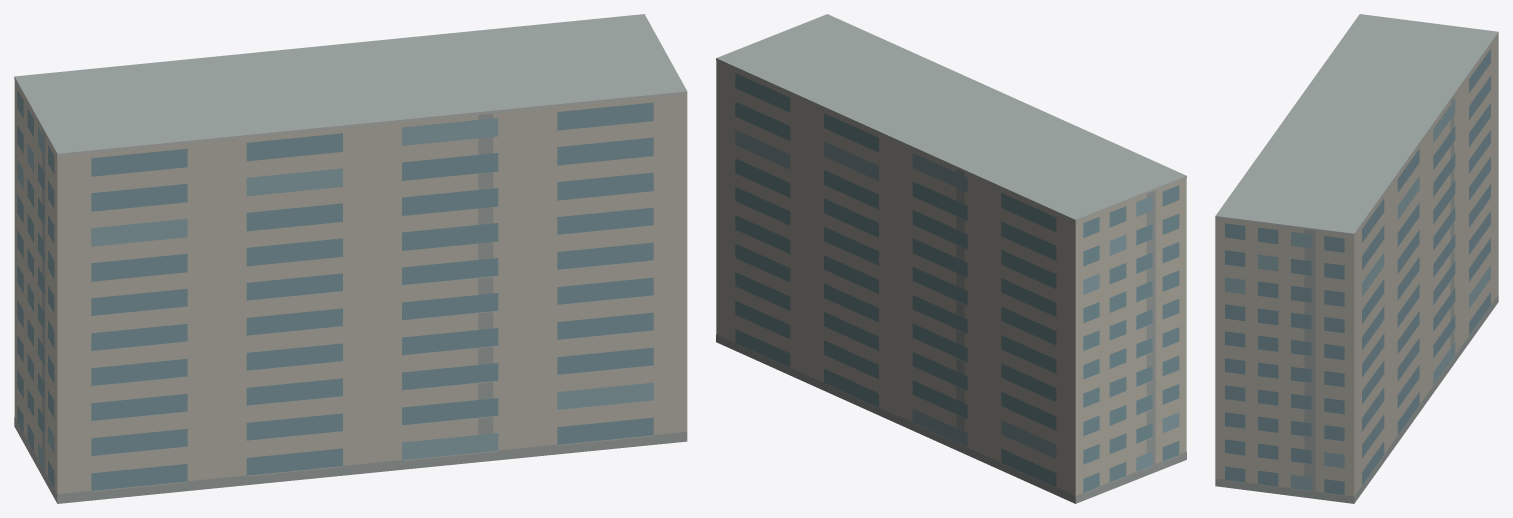
The model's file is residential-85fa245d-c6ea-4311-9c75-987929290852.glb.
3 views of the same model, side by side, from view 1: azimuth 30°, elevation 25°; view 2: azimuth 150°, elevation 25°; view 3: azimuth 270°, elevation 25° (orthographic). The views are drawn at different scales.
Parts seen in each view (by area): view 1: residential-85fa245d-c6ea-4311-9c75-987929290852.tmp; view 2: residential-85fa245d-c6ea-4311-9c75-987929290852.tmp; view 3: residential-85fa245d-c6ea-4311-9c75-987929290852.tmp.
Boxes of the visible parts, x1,y1,x2,y2 form: residential-85fa245d-c6ea-4311-9c75-987929290852.tmp: (14, 14, 687, 503); residential-85fa245d-c6ea-4311-9c75-987929290852.tmp: (716, 14, 1186, 503); residential-85fa245d-c6ea-4311-9c75-987929290852.tmp: (1215, 14, 1498, 503).
Size of the model in its own units: 53.21 by 30.5 by 29.
